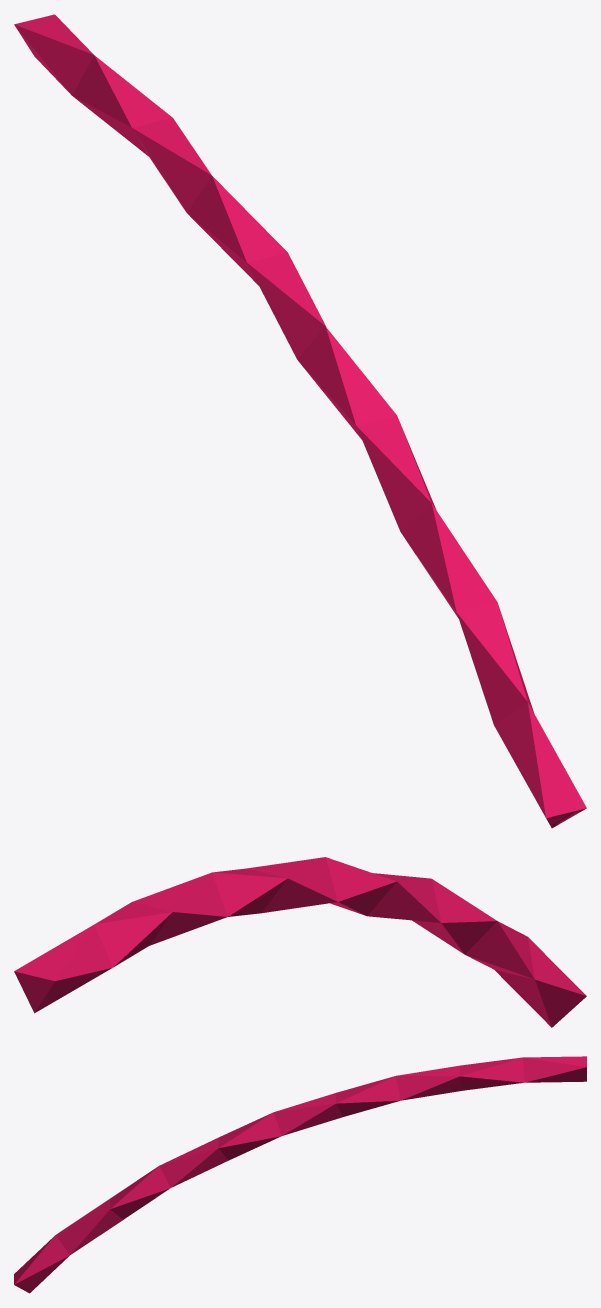
The model's file is arme_frite.fbx.
3 views of the same model, one above another, from view 1: azimuth 30°, elevation 25°; view 2: azimuth 150°, elevation 25°; view 3: azimuth 270°, elevation 25° (orthographic). The views are drawn at different scales.
Parts seen in each view (by area): view 1: Cylinder034; view 2: Cylinder034; view 3: Cylinder034.
Boxes of the visible parts, x1,y1,x2,y2 form: Cylinder034: (14, 14, 586, 828); Cylinder034: (14, 857, 586, 1027); Cylinder034: (14, 1056, 586, 1293).
Size of the model in its own units: 8.28 by 84.76 by 186.
